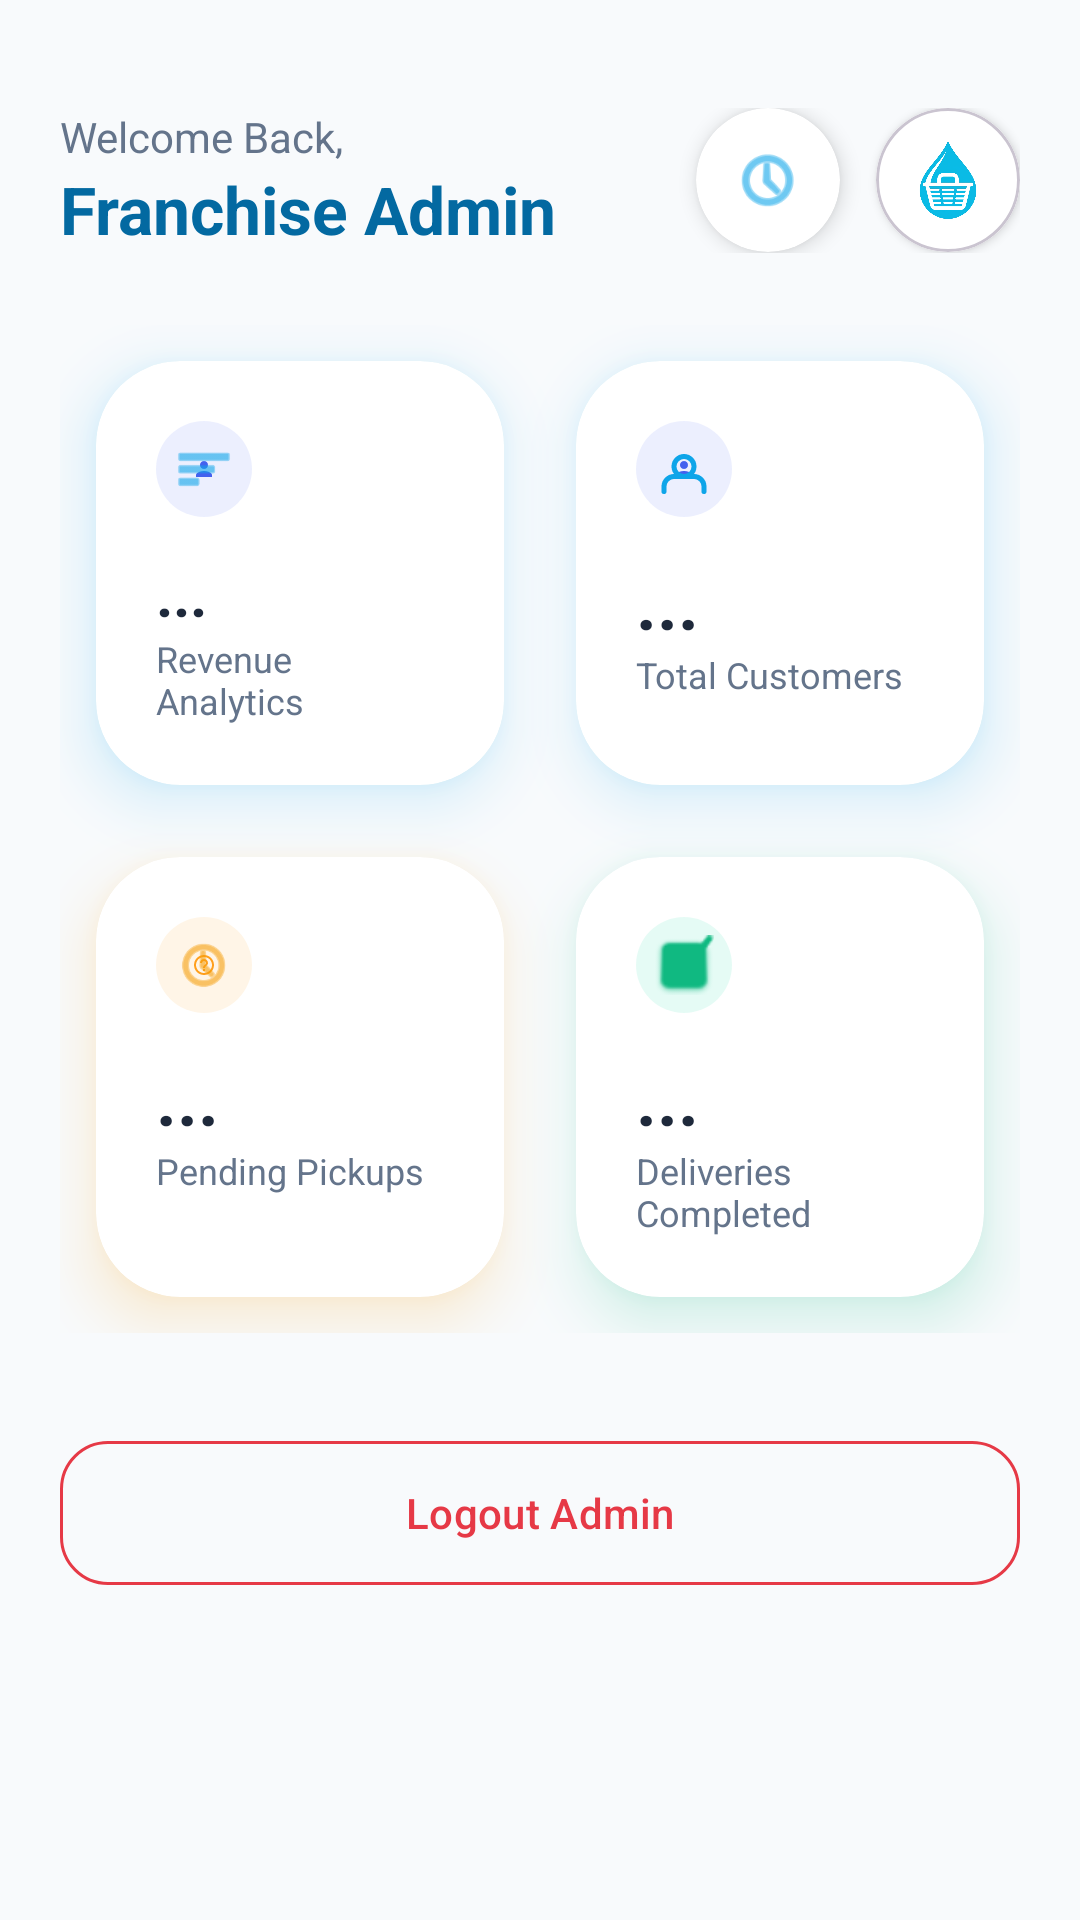

Screen size 1080*1920. Icon name, then its center in pixels as point (x, y):
user: point (684, 469)
